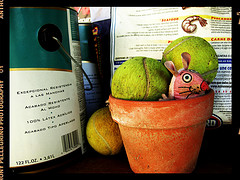tennis ball: (160, 34, 219, 89), (109, 56, 171, 102), (86, 107, 126, 155)
